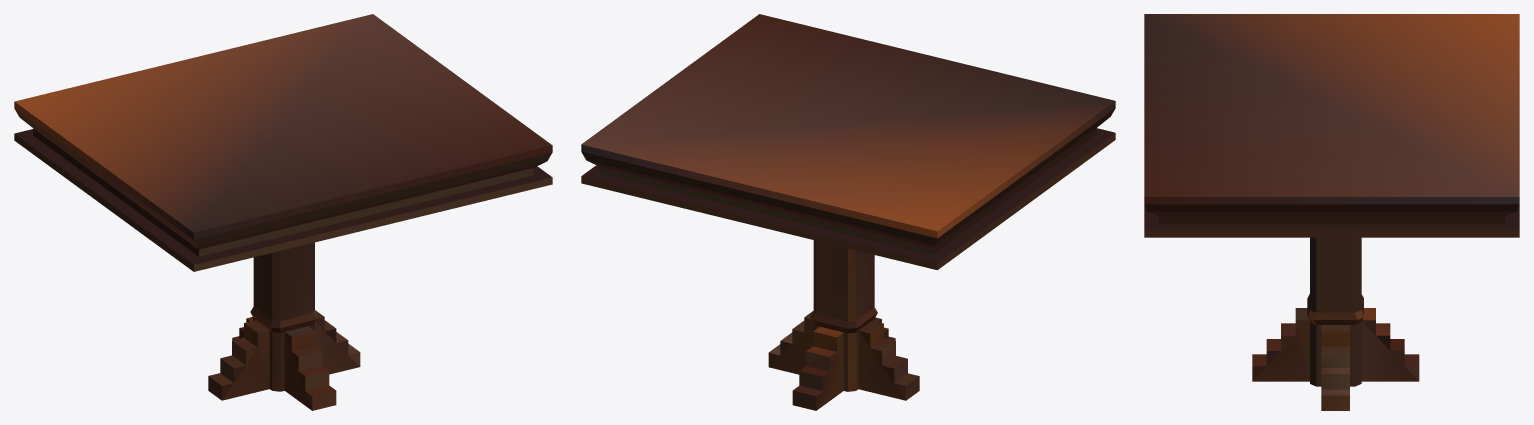
Rendered from Furniture_TableBShort.fbx.
3 views of the same model, side by side, from view 1: azimuth 30°, elevation 25°; view 2: azimuth 150°, elevation 25°; view 3: azimuth 270°, elevation 25° (orthographic). The views are drawn at different scales.
Parts seen in each view (by area): view 1: Furniture_TableBShort; view 2: Furniture_TableBShort; view 3: Furniture_TableBShort.
Part boxes in pixels (x1,y1,x2,y2): Furniture_TableBShort: (14, 14, 552, 410); Furniture_TableBShort: (581, 14, 1115, 410); Furniture_TableBShort: (1144, 14, 1519, 410).
Bounding box in the file's own units: 150 × 103 × 130.
